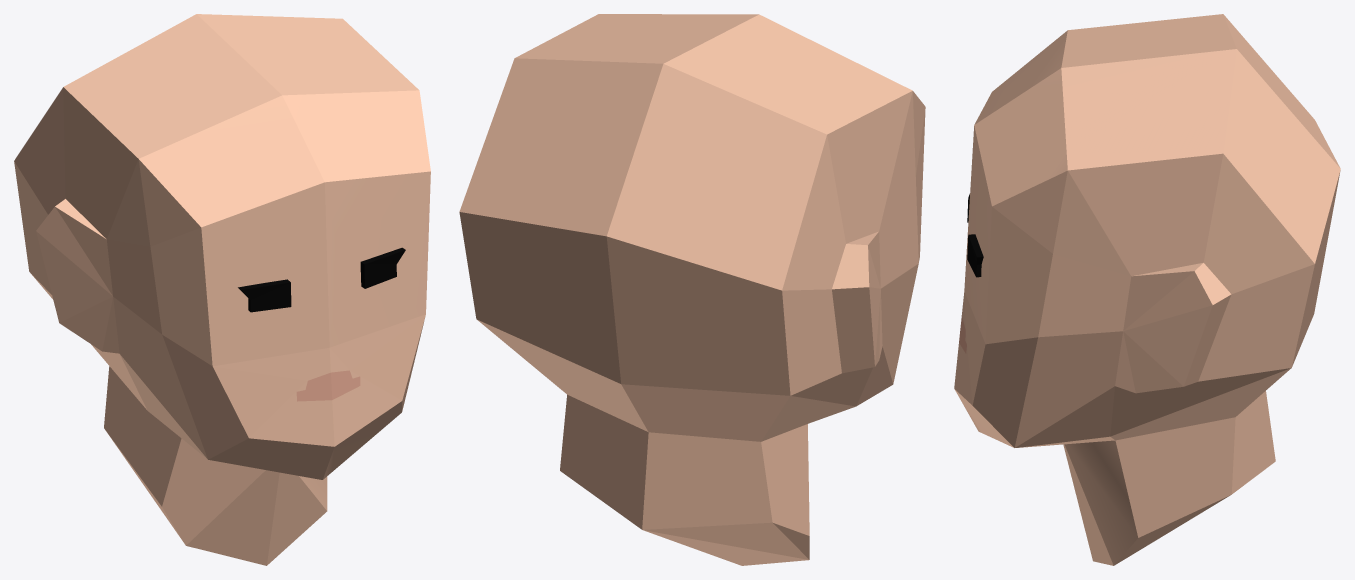
The model's file is Chr_Head_Female_21_Static.fbx.
The picture shows the model from 3 angles, left to right: view 1: azimuth 30°, elevation 25°; view 2: azimuth 150°, elevation 25°; view 3: azimuth 270°, elevation 25°; orthographic projection. The views are drawn at different scales.
Parts seen in each view (by area): view 1: Chr_Head_Female_21_Static; view 2: Chr_Head_Female_21_Static; view 3: Chr_Head_Female_21_Static.
Part boxes in pixels (<box>): Chr_Head_Female_21_Static: <box>14,14,430,565</box>; Chr_Head_Female_21_Static: <box>459,14,925,565</box>; Chr_Head_Female_21_Static: <box>954,14,1340,565</box>.
Bounding box in the file's own units: 0.2661 × 0.3693 × 0.2526.
